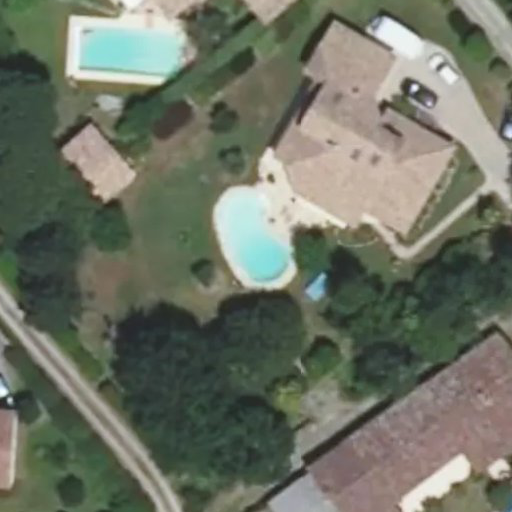pool: (211, 210, 296, 276)
